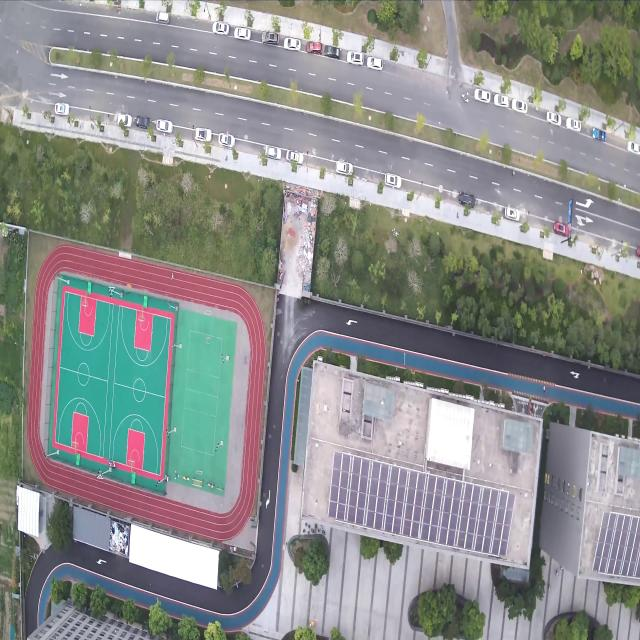UAV: (202, 335, 210, 344)
